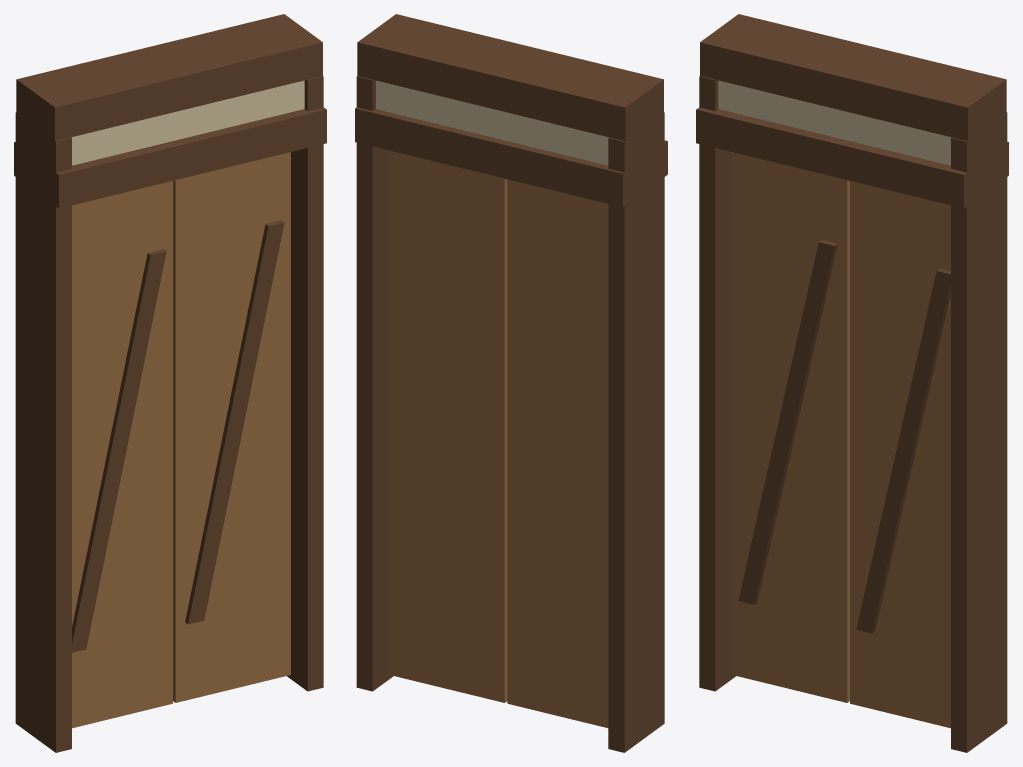
File: WallBarnDoor.fbx
The picture shows the model from 3 angles, left to right: view 1: azimuth 30°, elevation 25°; view 2: azimuth 150°, elevation 25°; view 3: azimuth 330°, elevation 25°; orthographic projection.
Parts seen in each view (by area): view 1: Kit_WallBarnDoor; view 2: Kit_WallBarnDoor; view 3: Kit_WallBarnDoor.
Part boxes in pixels (<box>): Kit_WallBarnDoor: <box>14,14,326,752</box>; Kit_WallBarnDoor: <box>355,14,667,752</box>; Kit_WallBarnDoor: <box>696,14,1008,752</box>.
Bounding box in the file's own units: 1 × 2.3 × 0.29.
